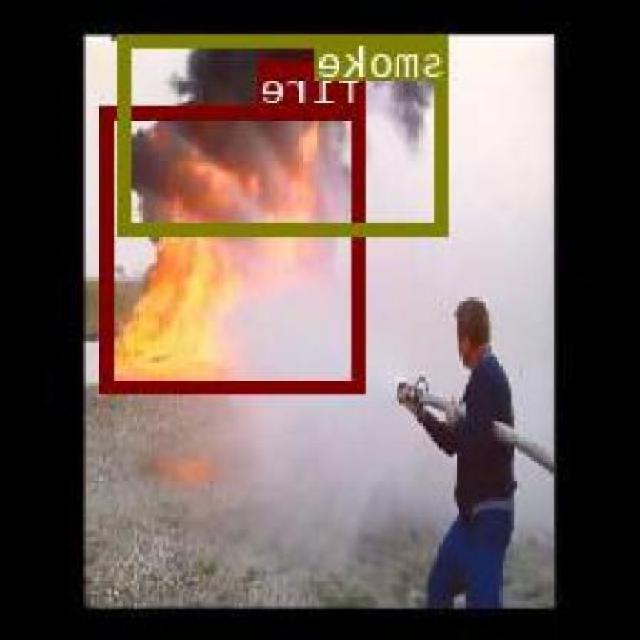Fire: (105, 104, 367, 390)
Smoke: (121, 34, 450, 232)
